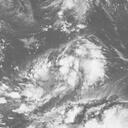cyclone: (46, 40, 98, 88)
